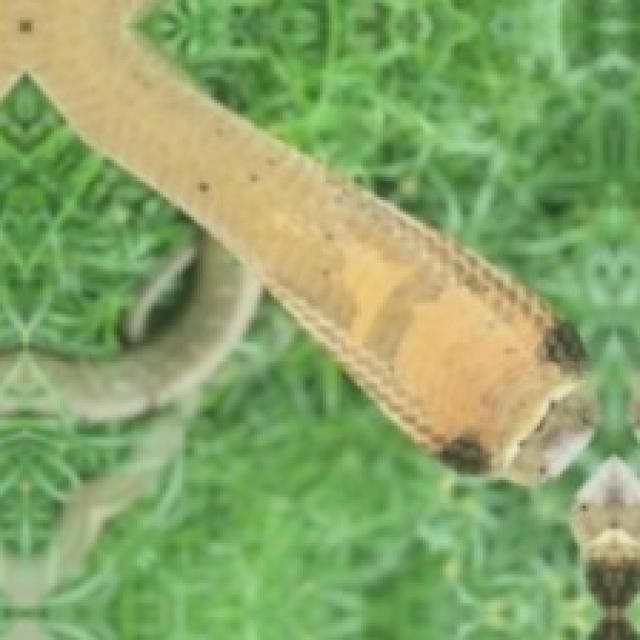king cobra: (43, 303, 637, 637), (151, 0, 637, 371)
